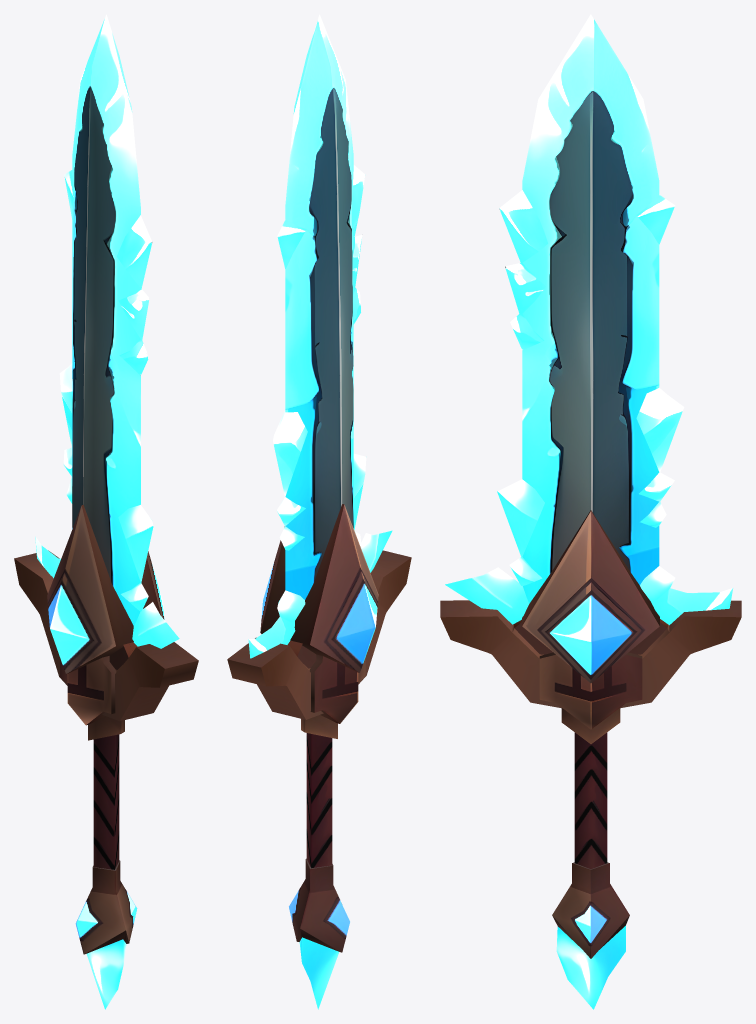
The model's file is Energy Sword.glb.
3 views of the same model, side by side, from view 1: azimuth 30°, elevation 25°; view 2: azimuth 150°, elevation 25°; view 3: azimuth 270°, elevation 25° (orthographic).
Parts seen in each view (by area): view 1: mesh_1_0; view 2: mesh_1_0; view 3: mesh_1_0.
Boxes of the visible parts, x1,y1,x2,y2 form: mesh_1_0: (14,14,198,1009); mesh_1_0: (227,14,411,1009); mesh_1_0: (440,14,741,1009).
Size of the model in its own units: 23.1 by 195 by 53.38.
Materials: 1 (1 with a texture image).
